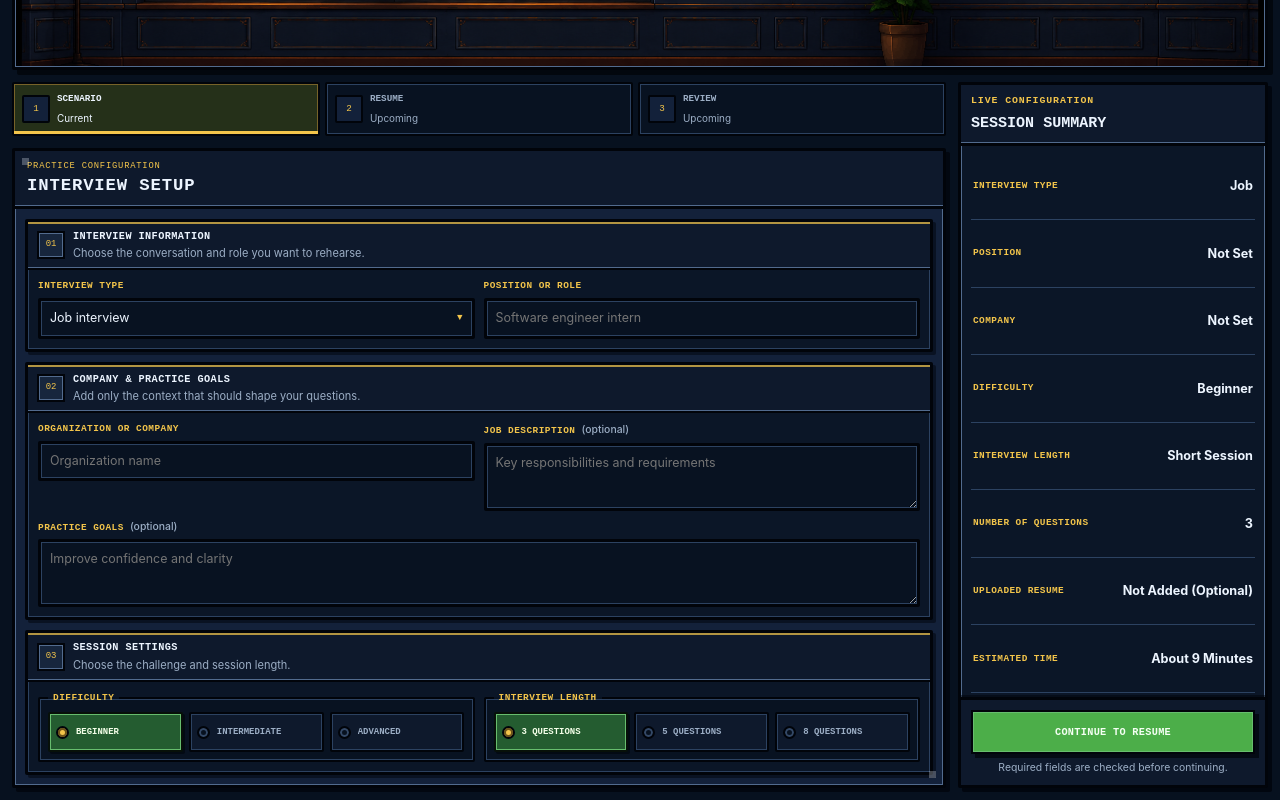
Test case: InterviewSimulator › shows setup validation before allowing progress
The width and height of the screenshot is (1280, 800).
(page scrolled)
Click the button "Continue to Resume" at (1113, 732), box x1=971 y1=710 x2=1255 y2=754
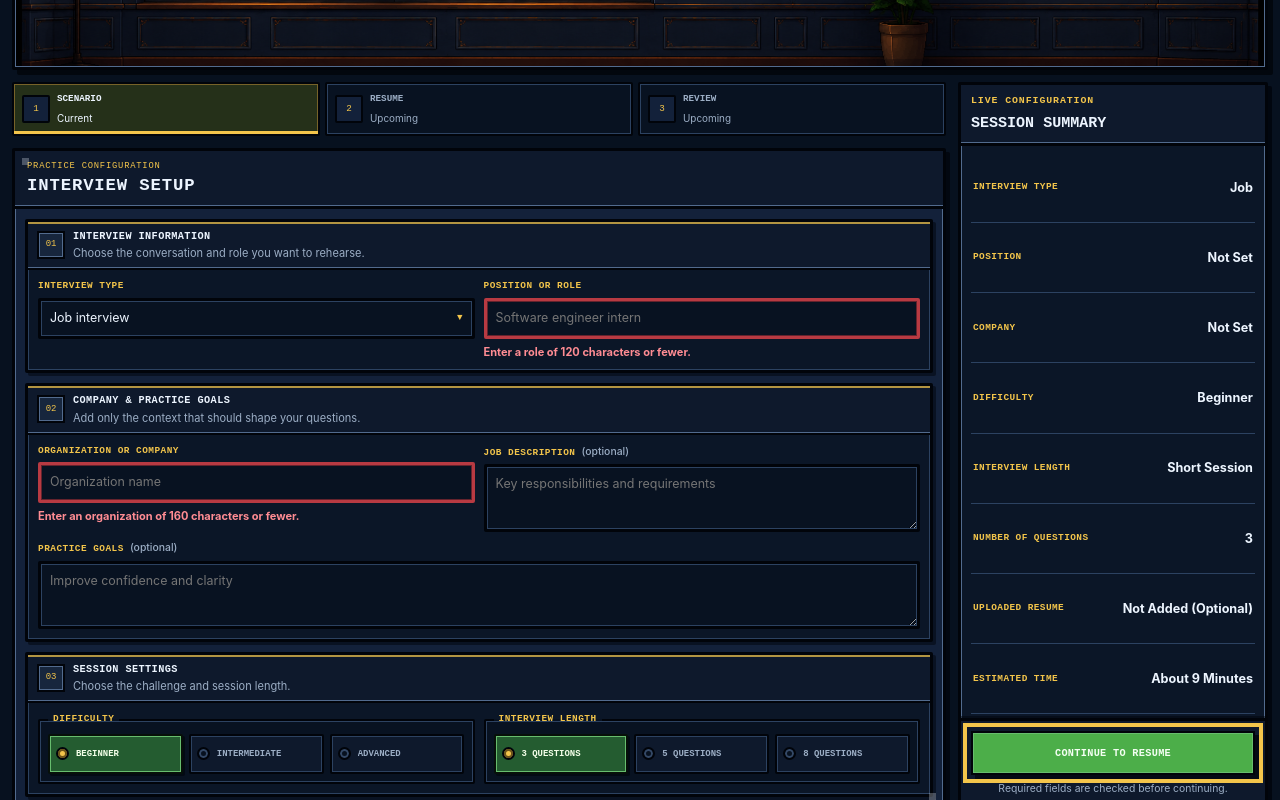
Expected: the text "Enter a role of 120 characters or fewer." is shown, x1=484 y1=345 x2=691 y2=359
Expected: the text "Enter an organization of 160 characters or fewer." is shown, x1=38 y1=509 x2=300 y2=523
